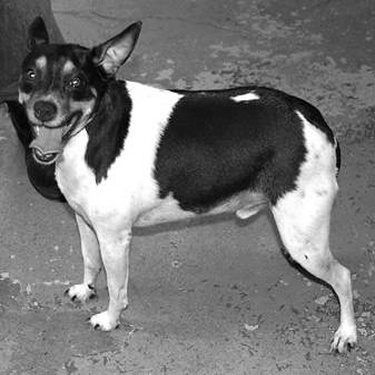dog: (9, 6, 363, 358)
